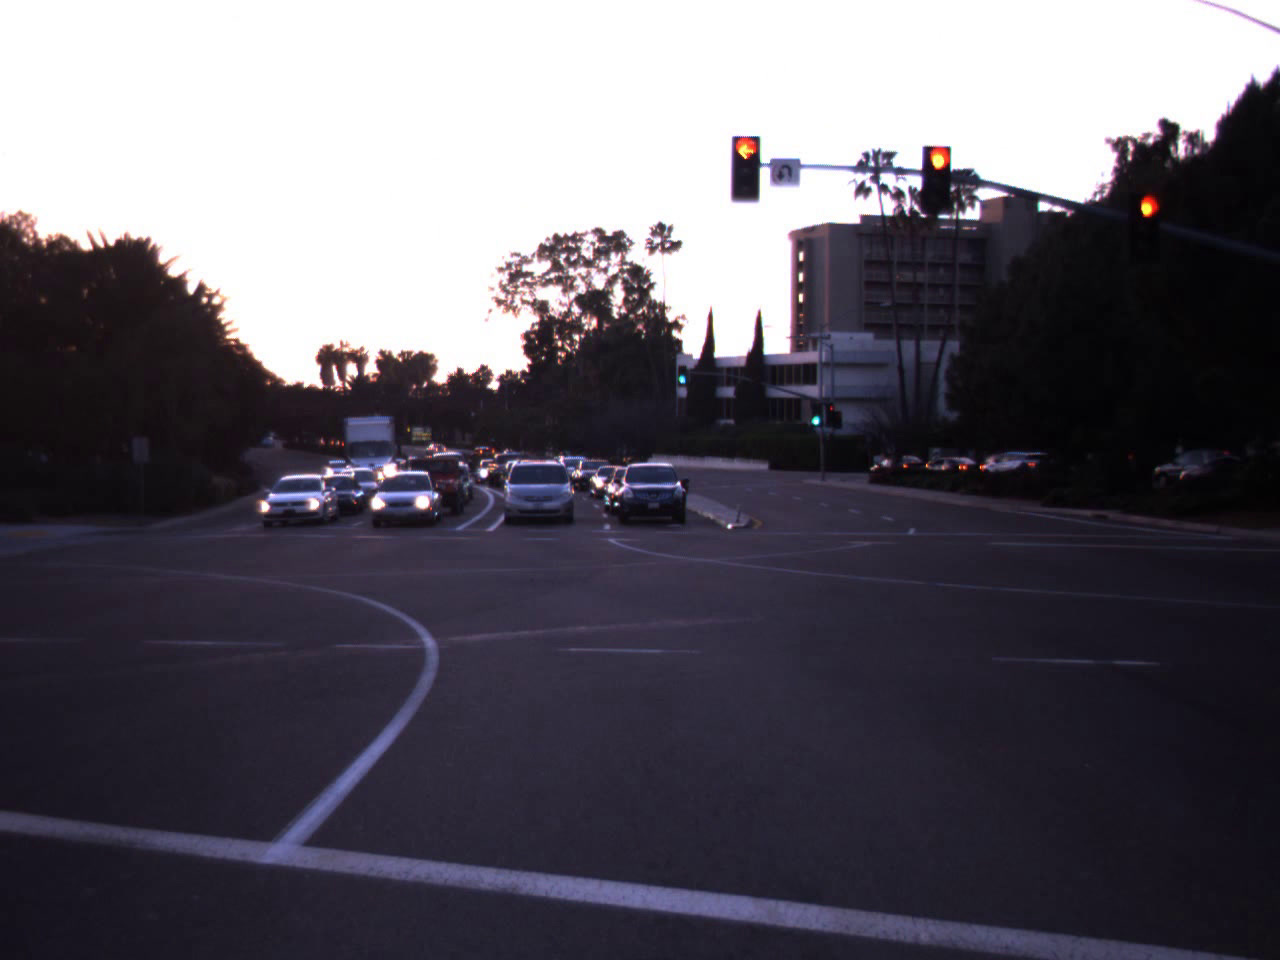go: (805, 396, 826, 426), (675, 355, 690, 385)
stop: (711, 129, 777, 228), (910, 137, 964, 236), (1119, 185, 1173, 279)
